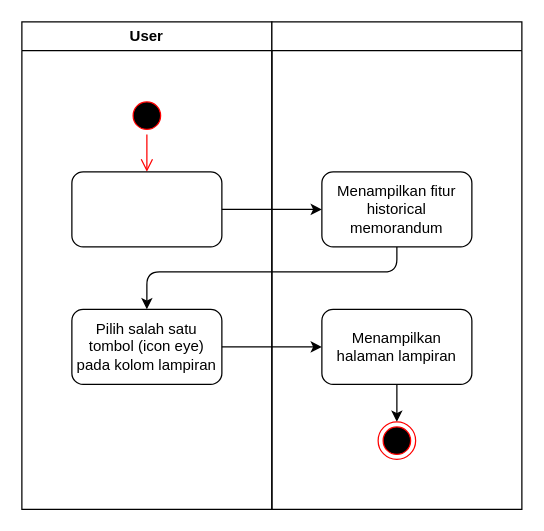
Image size: 544x531. Some labels were removed from this diagram. Each missing label, with the box of its shape:
Pilih fitur historical memorandum: (71, 171, 222, 247)
Sistem: (271, 21, 522, 509)
